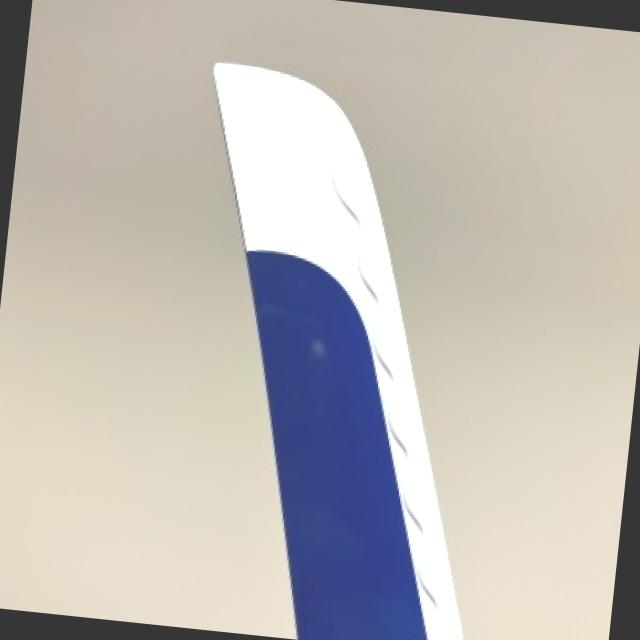healthy: (211, 62, 460, 640)
